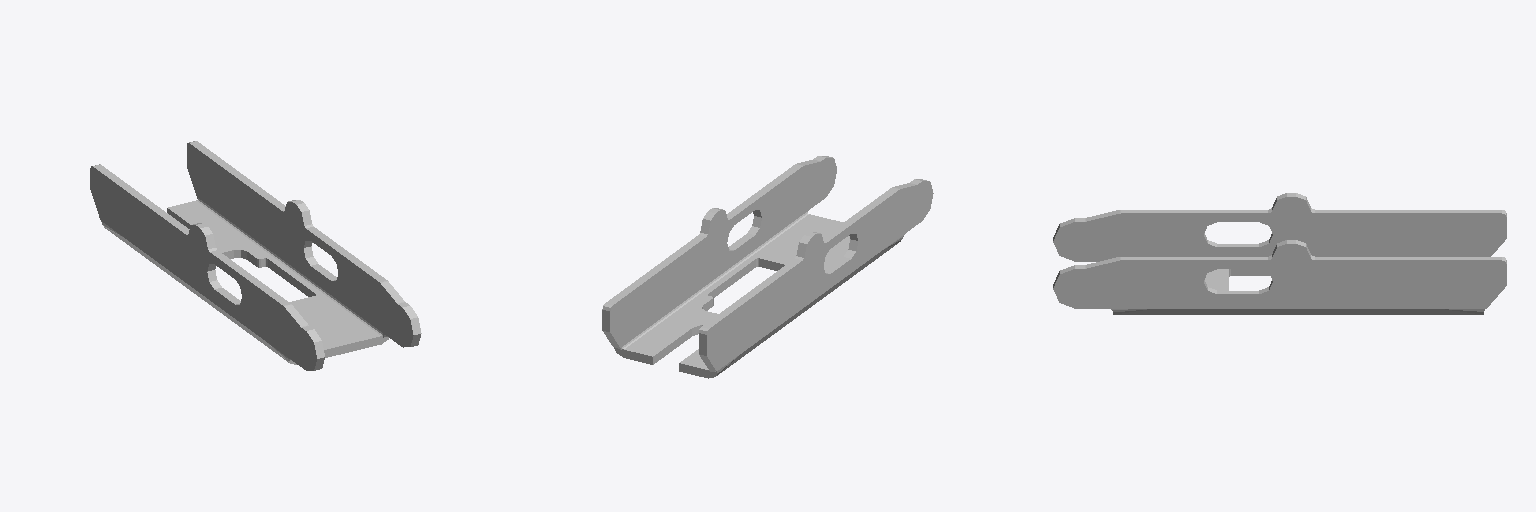
The model's file is Hinge_Guide.obj.
The picture shows the model from 3 angles: view 1: azimuth 30°, elevation 25°; view 2: azimuth 150°, elevation 25°; view 3: azimuth 270°, elevation 25°; orthographic projection.
Parts seen in each view (by area): view 1: [number redacted]; view 2: [number redacted]; view 3: [number redacted].
Part boxes in pixels (bbox=[...]): [number redacted]: bbox=[90, 141, 421, 370]; [number redacted]: bbox=[602, 156, 933, 378]; [number redacted]: bbox=[1053, 193, 1506, 314].
Size of the model in its own units: 13 by 9 by 49.